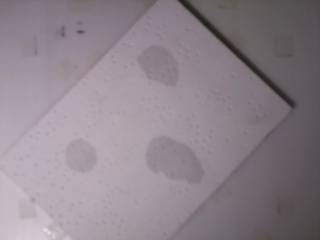Water_detected: (154, 138, 199, 186), (144, 46, 179, 83), (71, 142, 96, 166)
